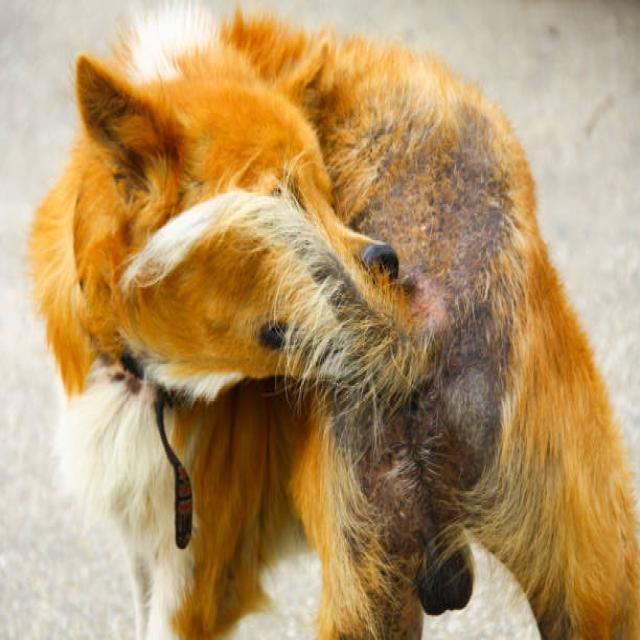mange: (396, 123, 529, 444)
